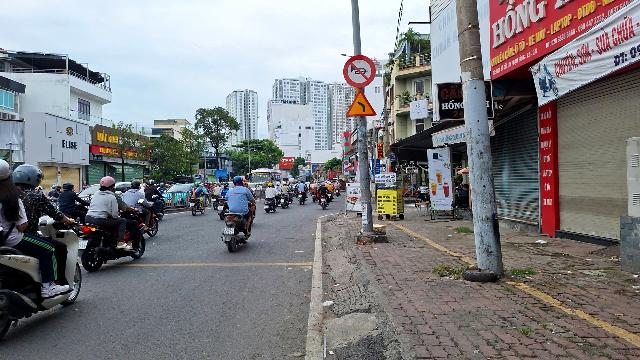cam-bop-coi: (343, 54, 376, 87)
cho-ngoat-nguy-hiem-ben-trai: (346, 89, 377, 117)
